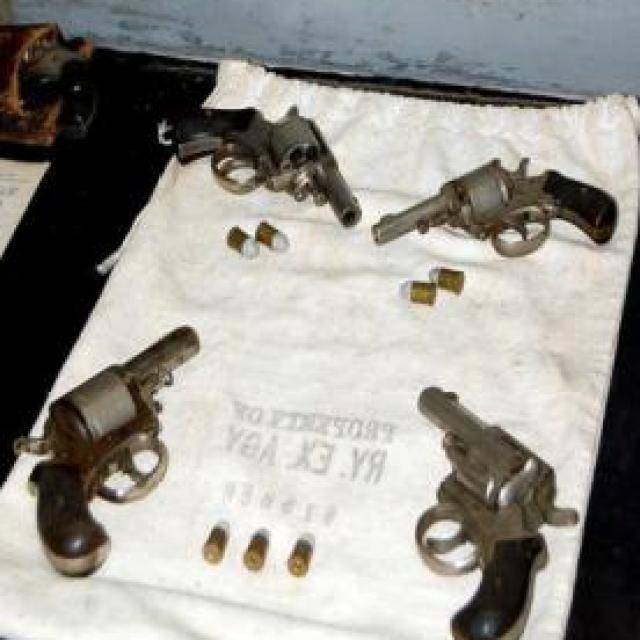pistol: (10, 325, 206, 582), (410, 380, 580, 640), (172, 100, 357, 230), (371, 160, 617, 254), (0, 19, 95, 146)
